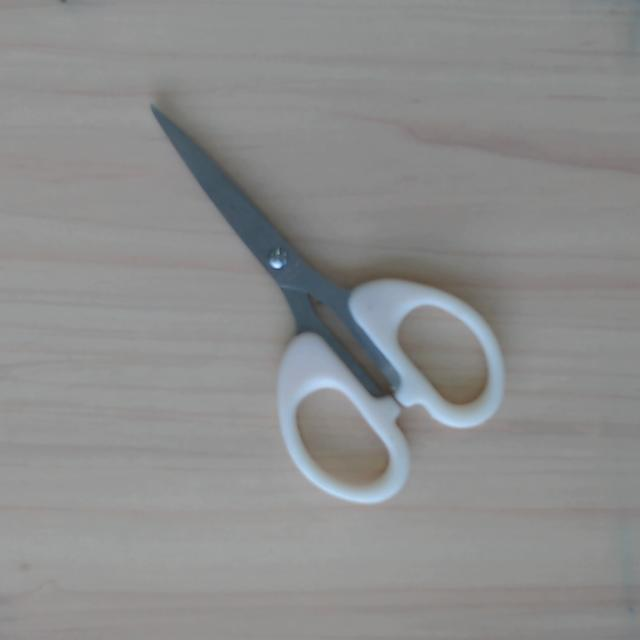Gunting: (27, 106, 536, 546)
